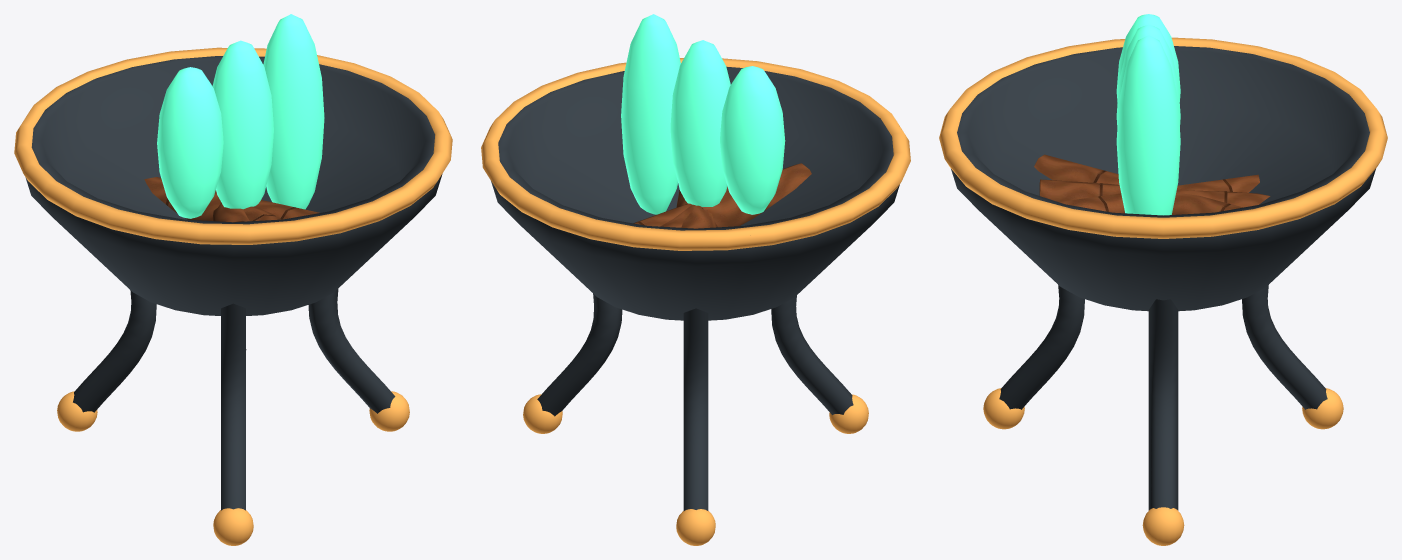
Rendered from hollowwick-halloween-ritual-fire-brazier-bf7d9a9d__21623.glb.
3 renders of one model, left to right at view 1: azimuth 30°, elevation 25°; view 2: azimuth 150°, elevation 25°; view 3: azimuth 270°, elevation 25°, orthographic. The views are drawn at different scales.
Parts seen in each view (by area): view 1: ritual-fire-brazier; view 2: ritual-fire-brazier; view 3: ritual-fire-brazier.
Part boxes in pixels (left/top/right/bottom): ritual-fire-brazier: left=14, top=14, right=452, bottom=545; ritual-fire-brazier: left=481, top=14, right=910, bottom=545; ritual-fire-brazier: left=939, top=14, right=1387, bottom=545.
Bounding box in the file's own units: 0.756 × 0.848 × 0.756.
4 materials, 1 textured.
